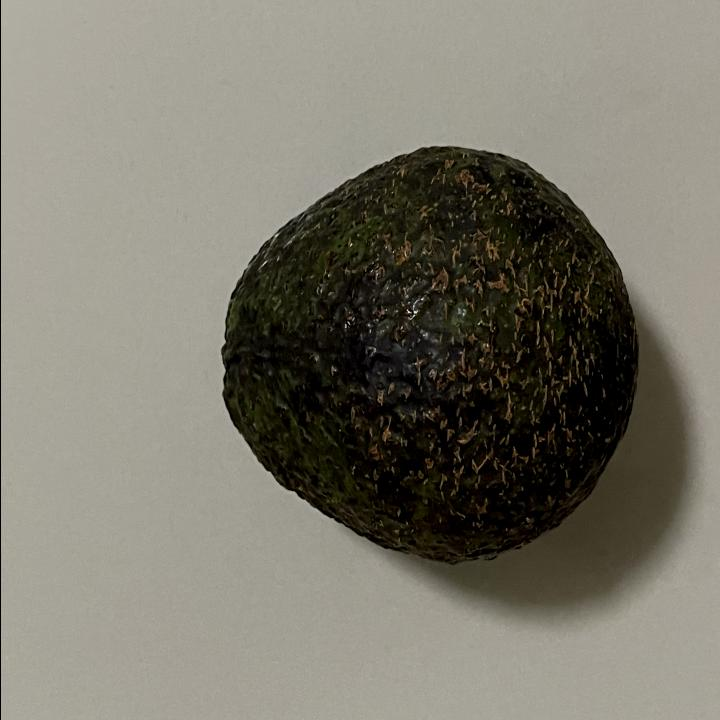Level1: (195, 128, 650, 582)
